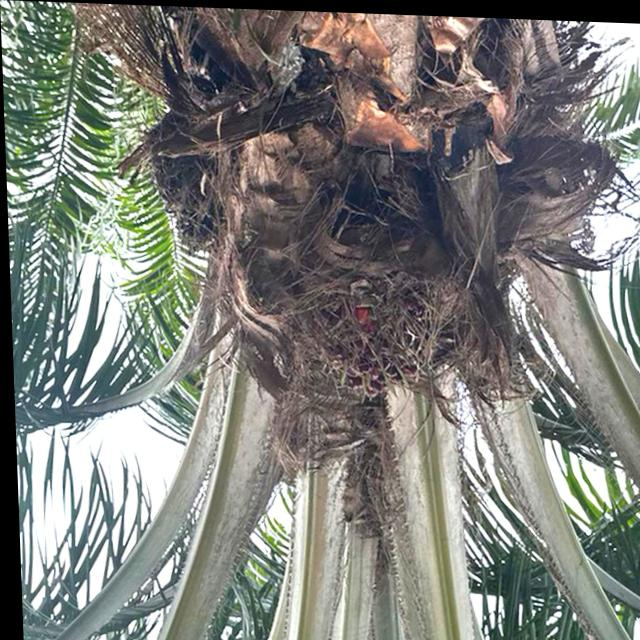ripe: (276, 216, 473, 416)
